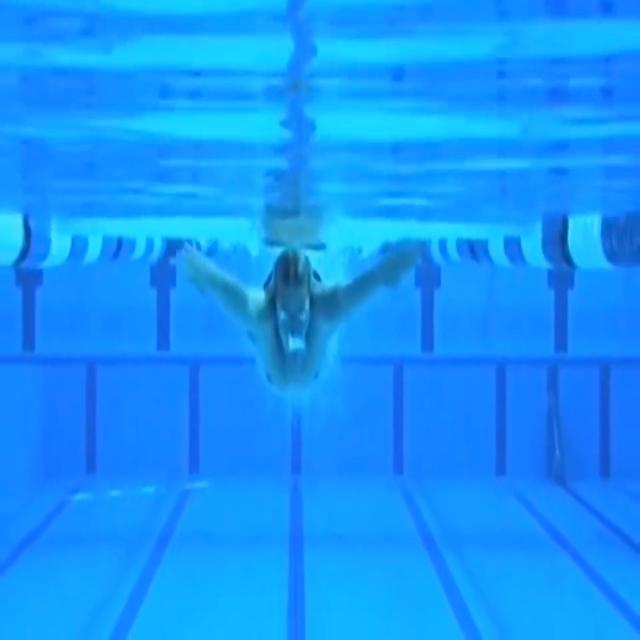Swimming: (183, 246, 420, 394)
